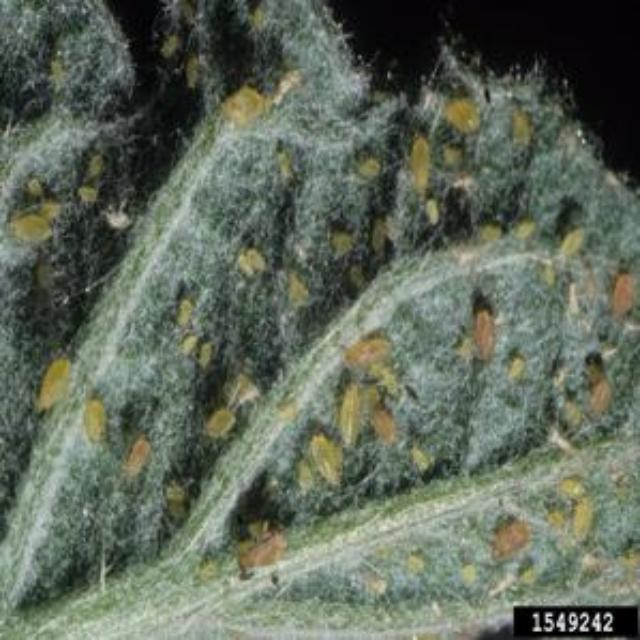Green peach aphid: (214, 522, 322, 602), (0, 168, 74, 266), (28, 344, 98, 418), (446, 292, 512, 366), (289, 421, 347, 494), (554, 470, 604, 540), (434, 87, 498, 141), (110, 432, 166, 492), (191, 392, 243, 452), (218, 80, 278, 132), (76, 392, 124, 450), (498, 104, 546, 162), (549, 216, 593, 276), (602, 263, 640, 329), (222, 234, 270, 282), (398, 134, 434, 196), (165, 281, 205, 333), (286, 275, 320, 315)
